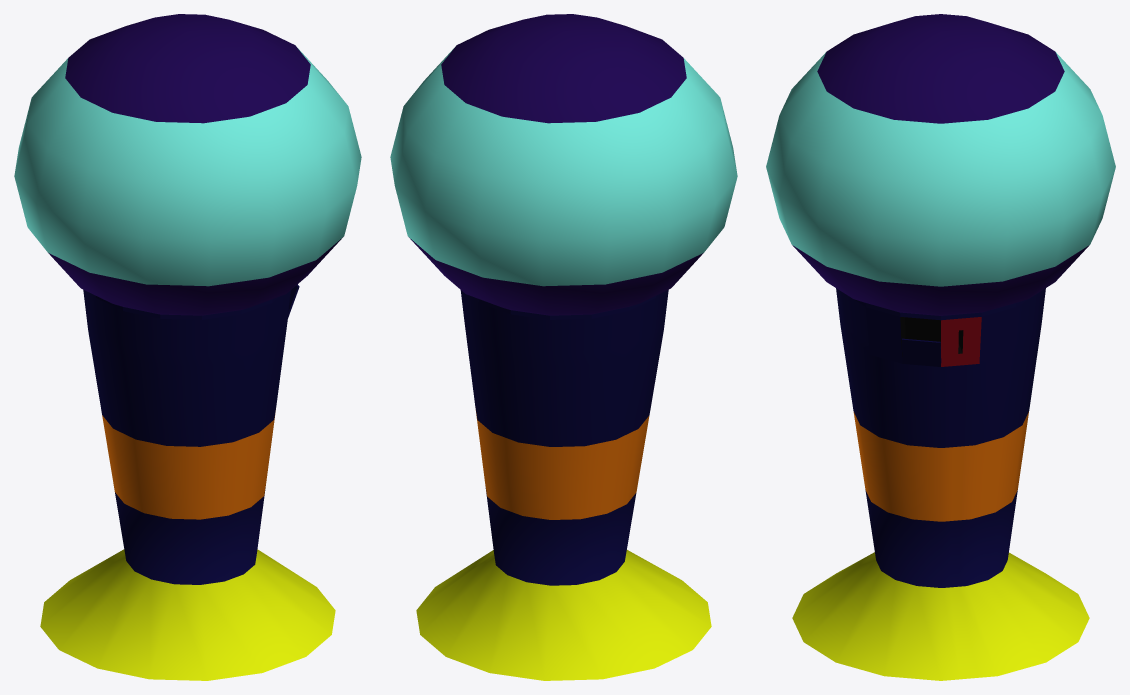
The model's file is gumball_machine.glb.
3 renders of one model, left to right at view 1: azimuth 30°, elevation 25°; view 2: azimuth 150°, elevation 25°; view 3: azimuth 270°, elevation 25°, orthographic.
Visible parts, largest first — view 1: Sphere, Cylinder; view 2: Sphere, Cylinder; view 3: Sphere, Cylinder.
Boxes of the visible parts, box(x1,y1,x2,y2) form: Sphere: box(14, 14, 361, 315); Cylinder: box(40, 284, 335, 680); Sphere: box(390, 14, 737, 315); Cylinder: box(416, 290, 711, 680); Sphere: box(766, 14, 1115, 315); Cylinder: box(792, 288, 1089, 680).
Bounding box in the file's own units: 1.18 × 2.17 × 1.18.
